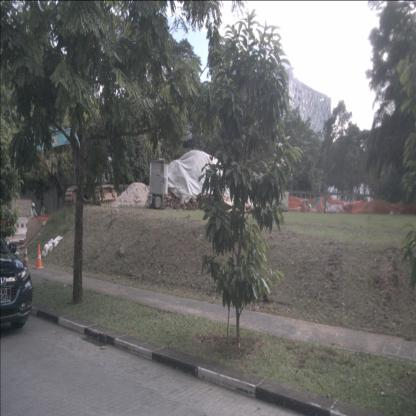movable_object-barrier: (7, 217, 32, 236), (33, 215, 54, 234)
movable_object-trafficcone: (33, 244, 44, 270), (21, 246, 30, 270)
vehicle-car: (0, 231, 33, 329)
